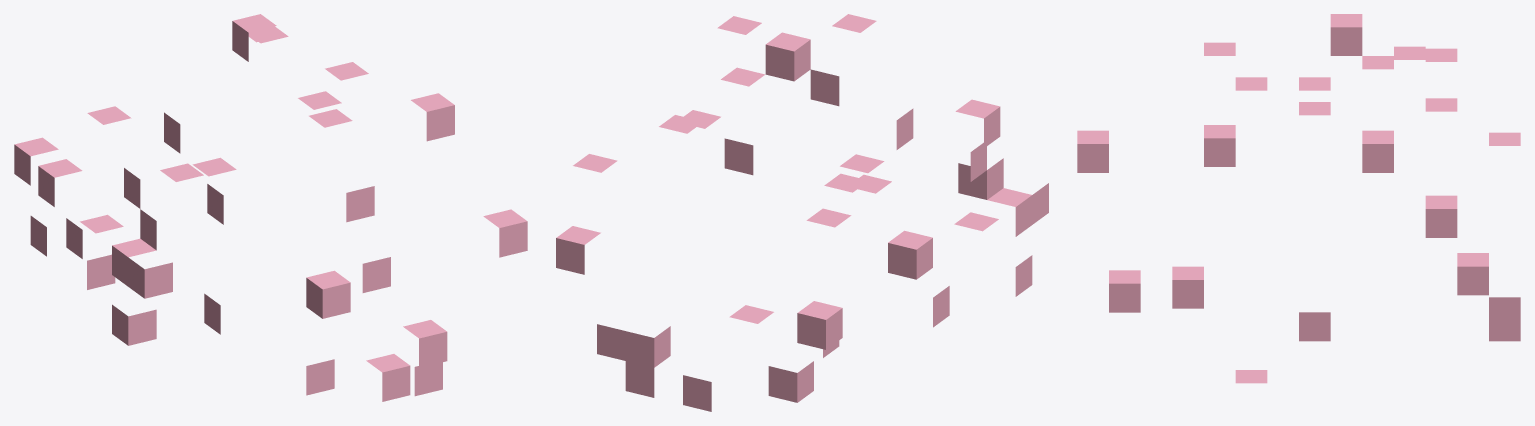
Rendered from tree-cherry-1p3-white-ffb7ce.gltf.
The picture shows the model from 3 angles, left to right: view 1: azimuth 30°, elevation 25°; view 2: azimuth 150°, elevation 25°; view 3: azimuth 270°, elevation 25°; orthographic projection. The views are drawn at different scales.
Visible parts, largest first — view 1: tree-cherry-1p3-white-ffb7ce; view 2: tree-cherry-1p3-white-ffb7ce; view 3: tree-cherry-1p3-white-ffb7ce.
Boxes of the visible parts, x1,y1,x2,y2 form: tree-cherry-1p3-white-ffb7ce: (14, 14, 527, 401); tree-cherry-1p3-white-ffb7ce: (556, 14, 1048, 411); tree-cherry-1p3-white-ffb7ce: (1077, 14, 1520, 383).
Size of the model in its own units: 13 by 12 by 14.
